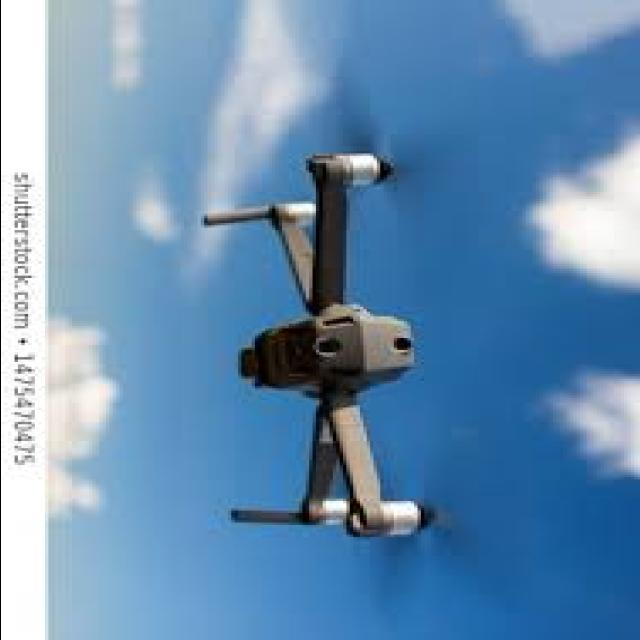drone: (202, 78, 492, 594)
